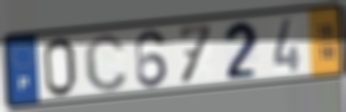0: (42, 35, 79, 98)
2: (219, 17, 262, 84)
4: (272, 17, 302, 74)
6: (133, 26, 169, 90)
7: (176, 22, 214, 86)
C: (82, 30, 130, 94)
